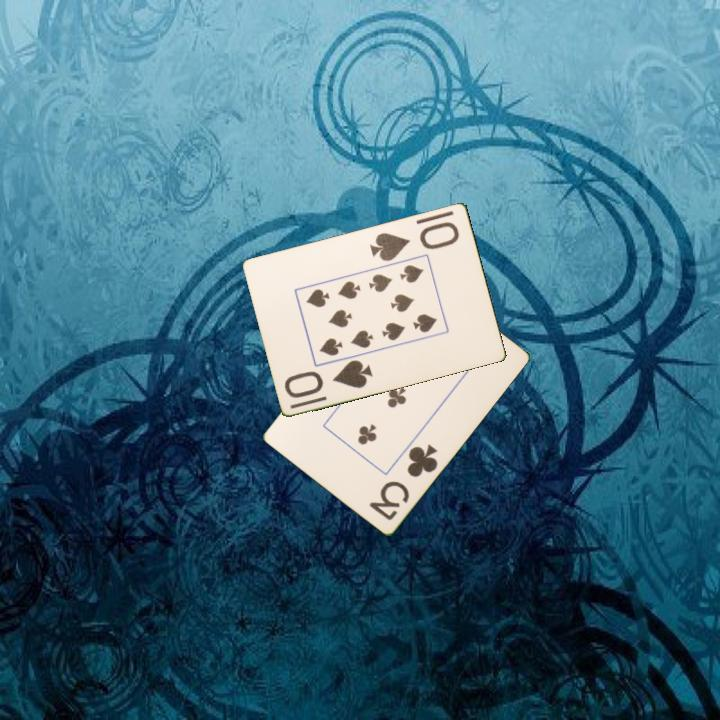10s: (366, 218, 462, 264), (281, 356, 376, 401)
3c: (365, 440, 441, 523)
